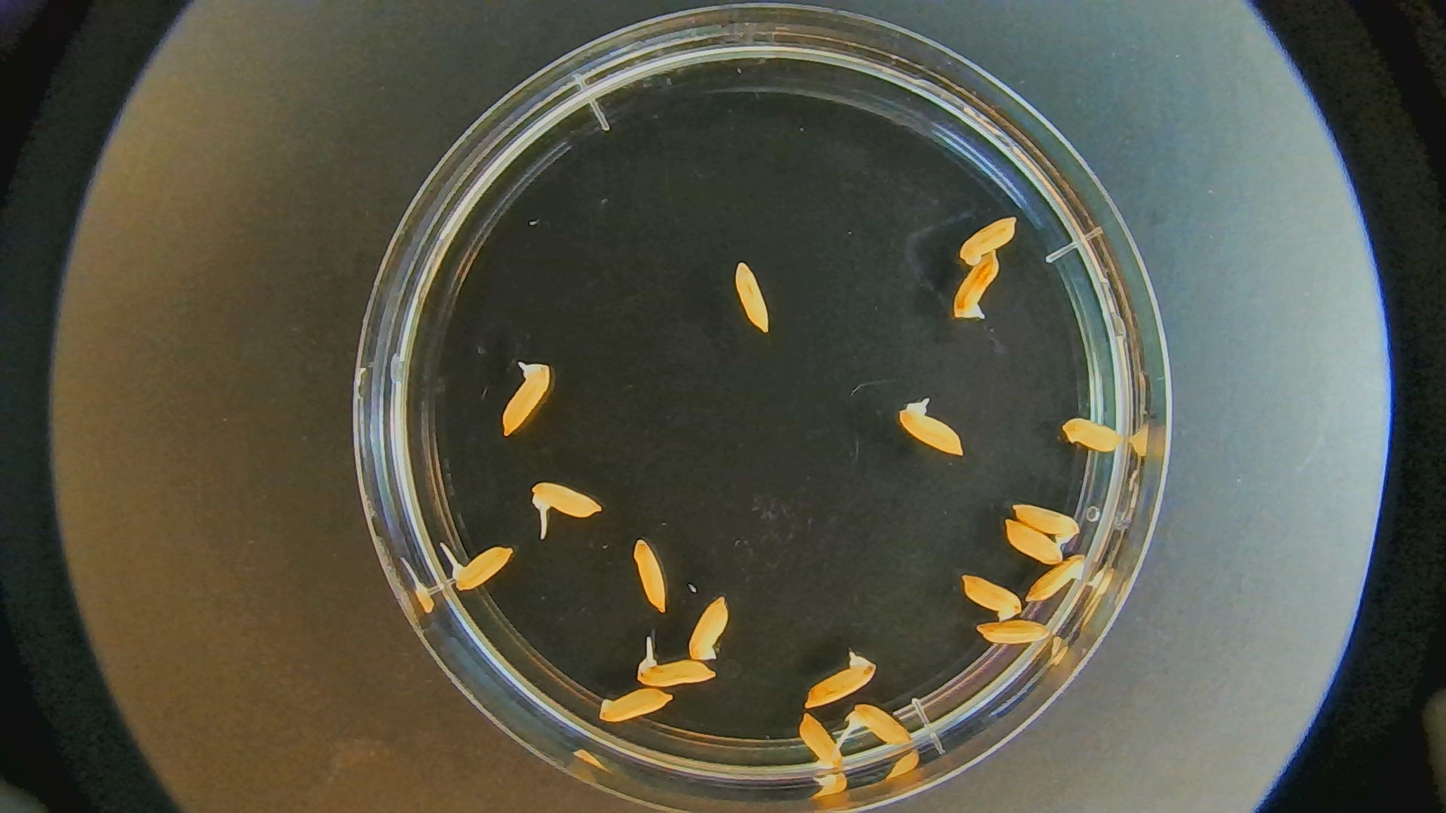no: (952, 252, 1002, 325), (966, 612, 1058, 649), (795, 711, 845, 779), (999, 519, 1063, 569), (689, 593, 730, 671), (1029, 556, 1092, 606), (959, 215, 1017, 268), (1058, 410, 1124, 456), (962, 572, 1021, 620), (1012, 501, 1082, 541), (631, 539, 668, 614), (593, 684, 670, 720), (734, 265, 765, 339)
yes: (895, 405, 966, 459), (805, 660, 880, 708), (503, 364, 552, 437), (850, 703, 913, 754), (453, 544, 514, 594), (530, 483, 599, 520), (636, 657, 717, 687)
